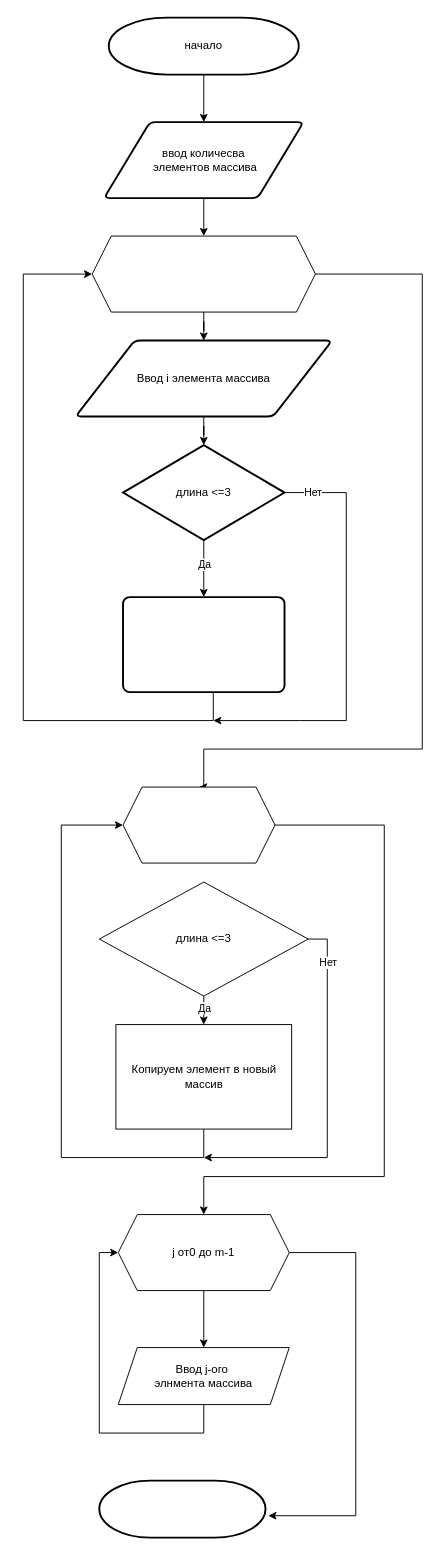
This 447x1554 diagram has some shape labels left out. Here are the shapes that lost their labels. From the top down, the centre of each, then its label:
At [203,273]: "I от 0 до n-1".
At [203,644]: "Увеличиваем количество элементов в новом массиве".
At [198,824]: "j от 0 до ь-1".
At [182,1508]: "Конец".
